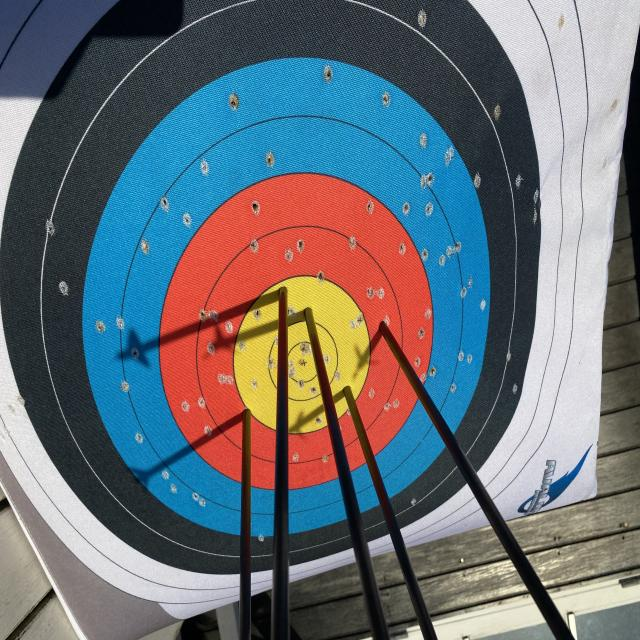Arrow_Red: (368, 304, 399, 356), (235, 389, 254, 437)
Arrow_Yellow: (268, 274, 295, 326), (336, 379, 359, 413), (302, 291, 316, 329)
